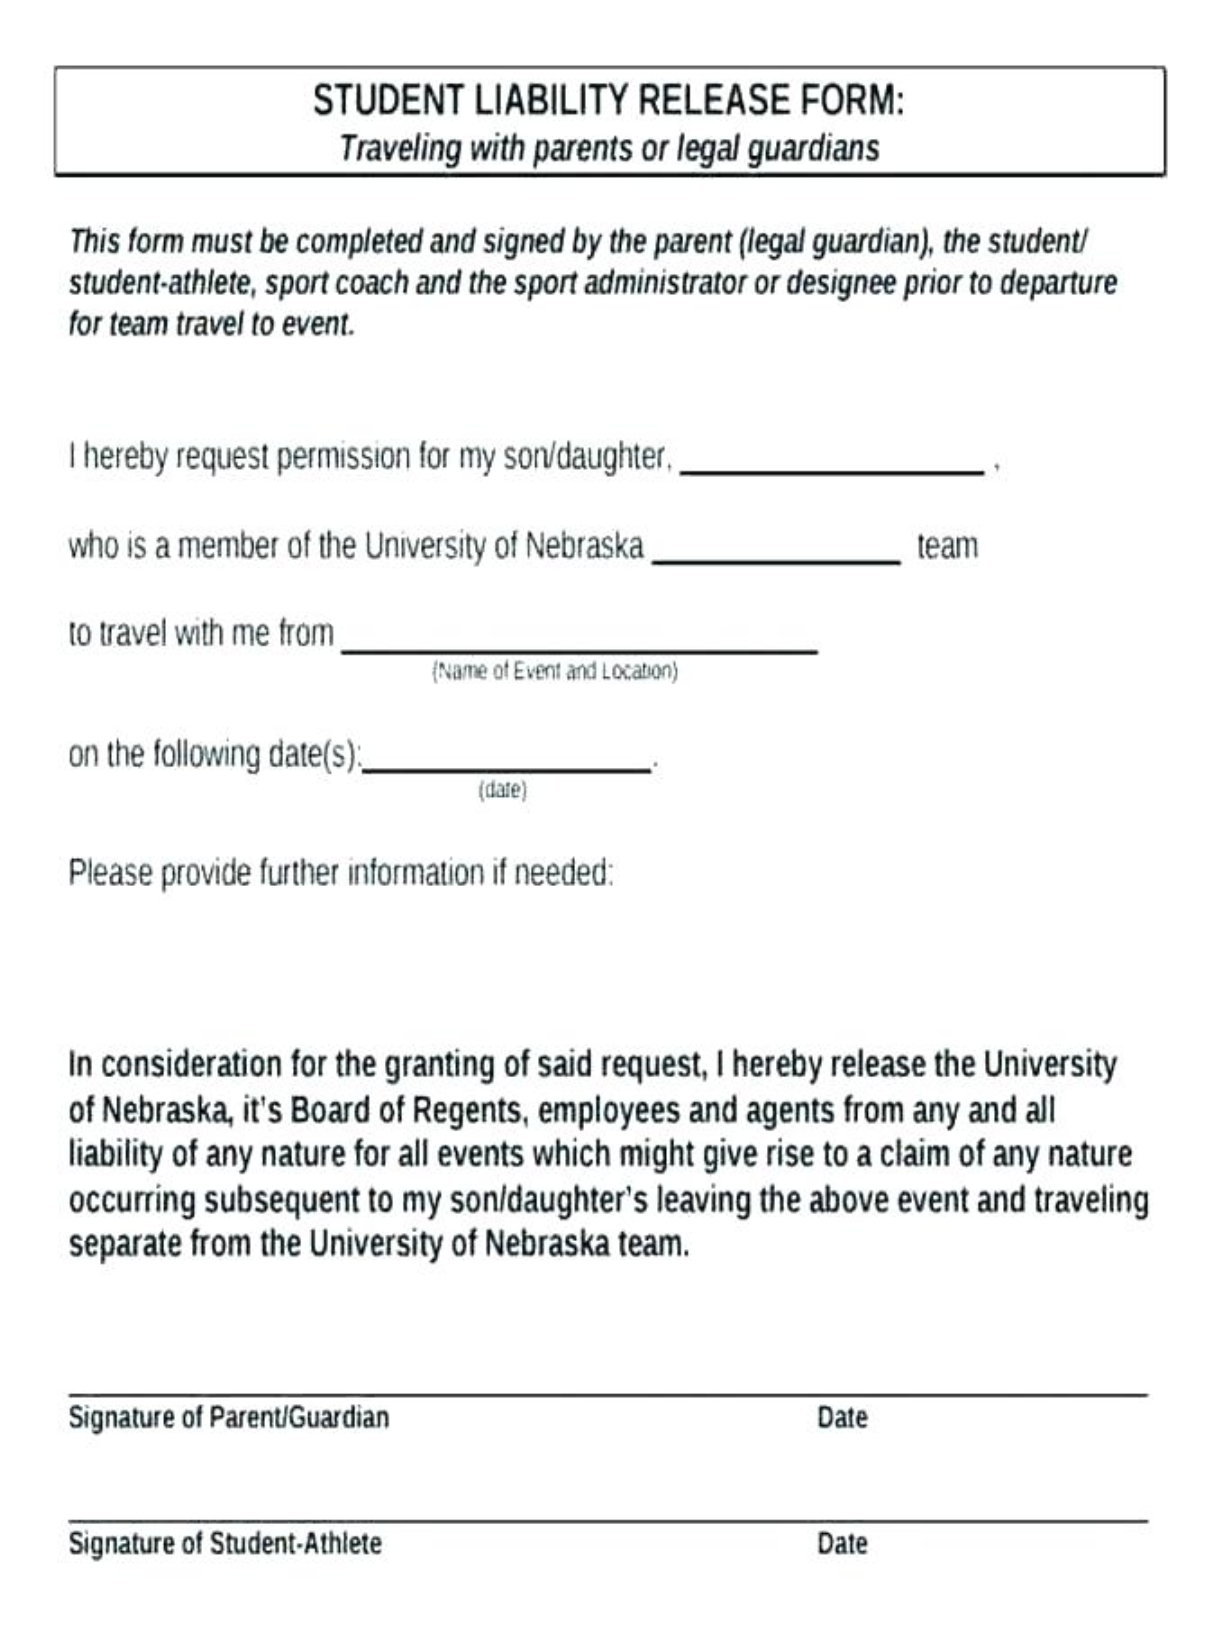textline: (62, 1468, 1159, 1529), (56, 1346, 1154, 1405), (337, 609, 823, 666), (673, 424, 995, 480), (358, 725, 664, 775), (645, 523, 911, 573)
